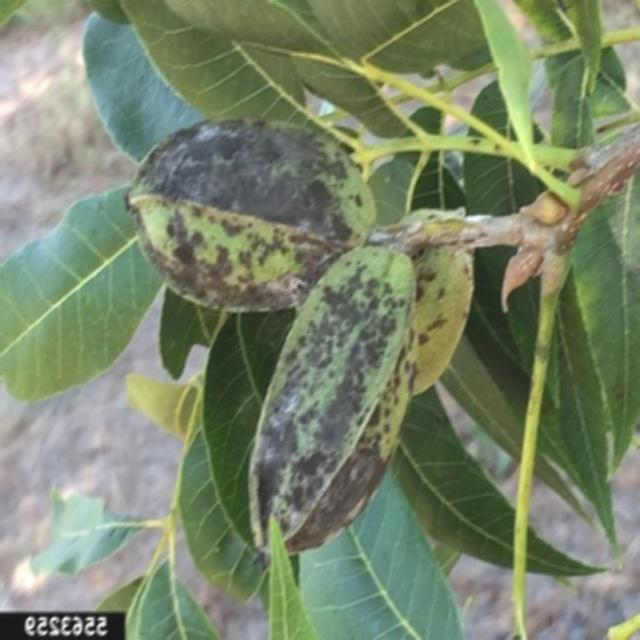leaf_spot: (242, 212, 498, 574), (119, 106, 396, 326)
